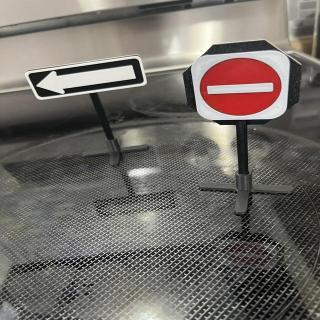sign_noentry: (189, 49, 297, 126)
sign_oneway_left: (26, 56, 149, 103)
